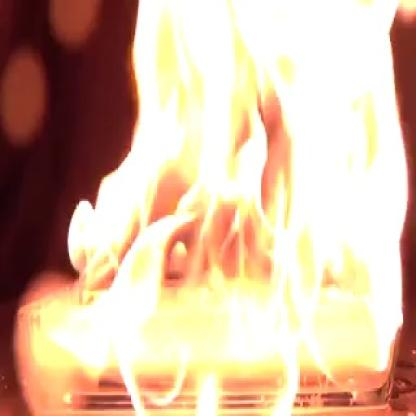fire: (62, 0, 416, 416)
